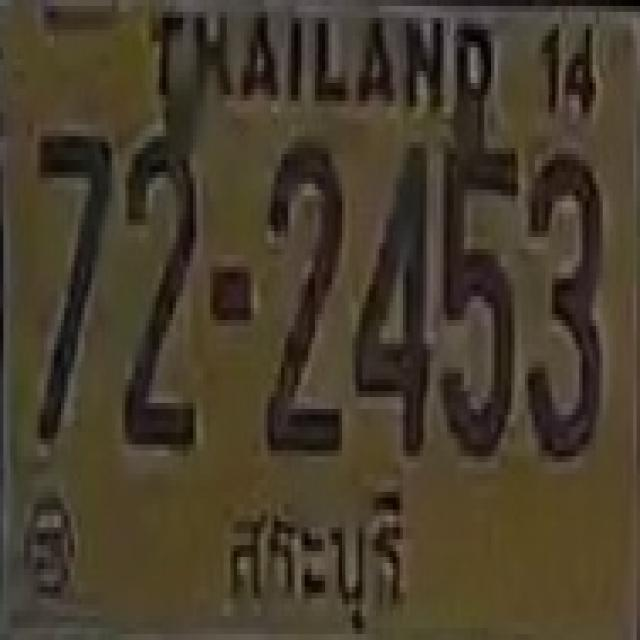2: (264, 137, 342, 450), (120, 124, 195, 444)
3: (525, 148, 599, 456)
4: (352, 137, 427, 450)
5: (440, 140, 518, 453)
7: (36, 130, 110, 438)
SRI: (215, 486, 418, 637)
